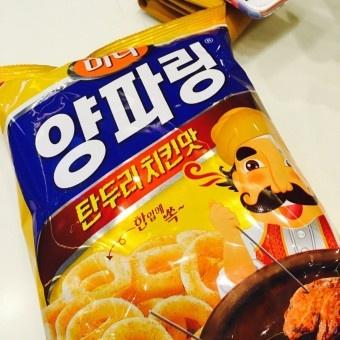snack: (0, 3, 340, 340)
